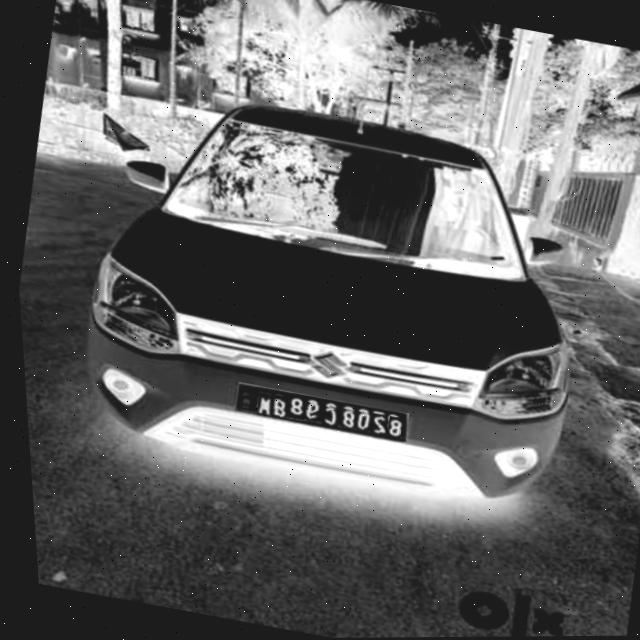0: (349, 413, 367, 432)
2: (363, 415, 383, 438)
6: (298, 403, 315, 421)
8: (380, 418, 398, 441), (284, 401, 301, 421), (334, 410, 351, 429)
B: (264, 395, 284, 419)
C: (314, 407, 335, 428)
IND: (232, 386, 254, 409)
Indian_registered: (229, 385, 402, 442)
W: (250, 393, 268, 418)
